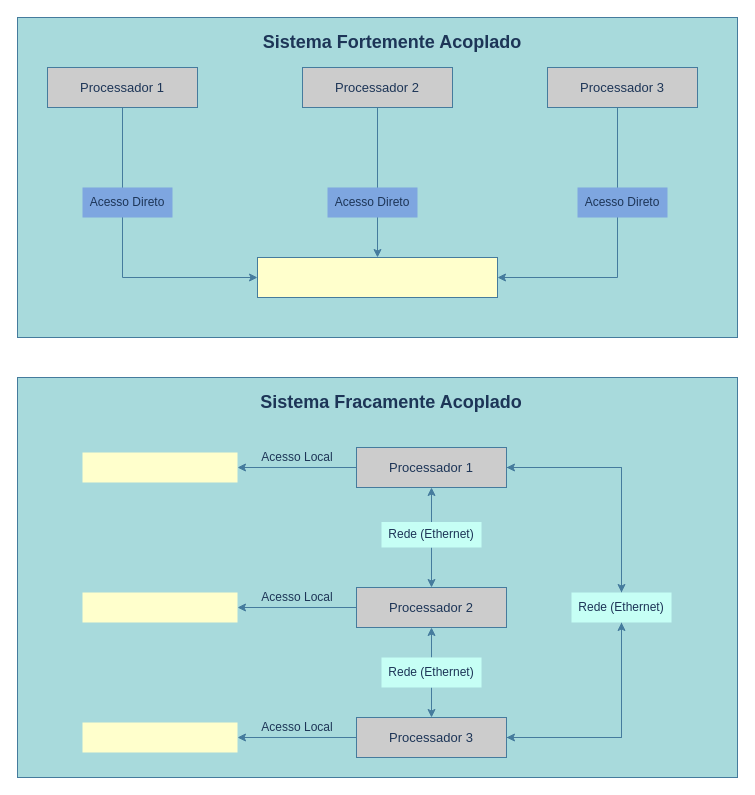
Image size: 755x795. Some labels were removed from this diagram. Here are the shapes that lost their labels. From the top down, the centre of each, then its label:
the point at 377,277: Memoria compartilhada
the point at 159,467: Memória Local 1
the point at 159,607: Memória Local 2
the point at 159,737: Memória Local 3
